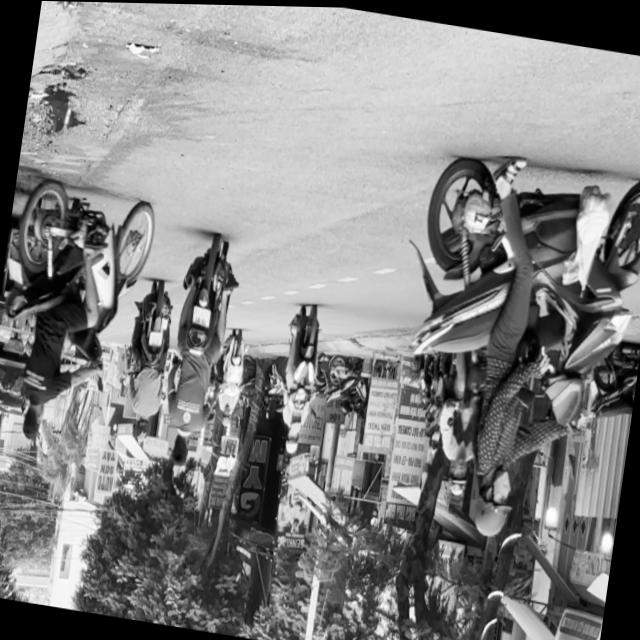helmet: (468, 457, 519, 541), (284, 425, 302, 455)
licenseplate: (375, 137, 640, 562), (0, 168, 167, 463), (154, 232, 246, 479), (270, 301, 330, 456)
motorcyclist: (20, 401, 46, 443), (169, 430, 193, 470)
nohelmet: (192, 306, 212, 328)
